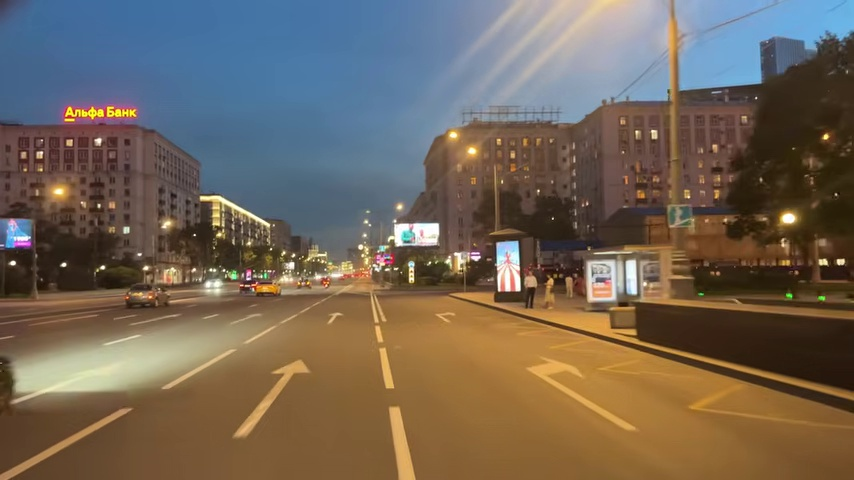acesa: (445, 131, 473, 154), (778, 209, 798, 229), (49, 183, 70, 202), (464, 145, 480, 160), (446, 128, 461, 143), (394, 200, 406, 214)
